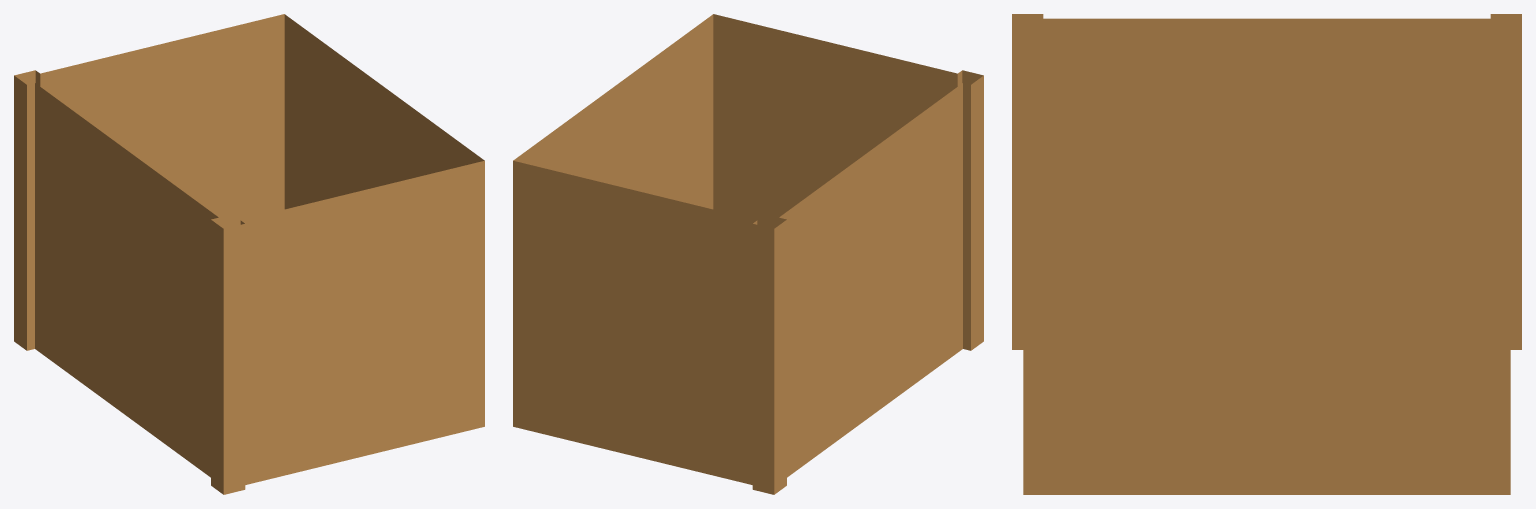
File: building3_side_ground.fbx
3 views of the same model, side by side, from view 1: azimuth 30°, elevation 25°; view 2: azimuth 150°, elevation 25°; view 3: azimuth 270°, elevation 25° (orthographic). The views are drawn at different scales.
Parts seen in each view (by area): view 1: building3_side_ground; view 2: building3_side_ground; view 3: building3_side_ground.
Boxes of the visible parts, bbox=[...] form: building3_side_ground: bbox=[14, 14, 484, 494]; building3_side_ground: bbox=[513, 14, 983, 494]; building3_side_ground: bbox=[1012, 14, 1521, 494].
Bounding box in the file's own units: 366 × 350 × 500.
